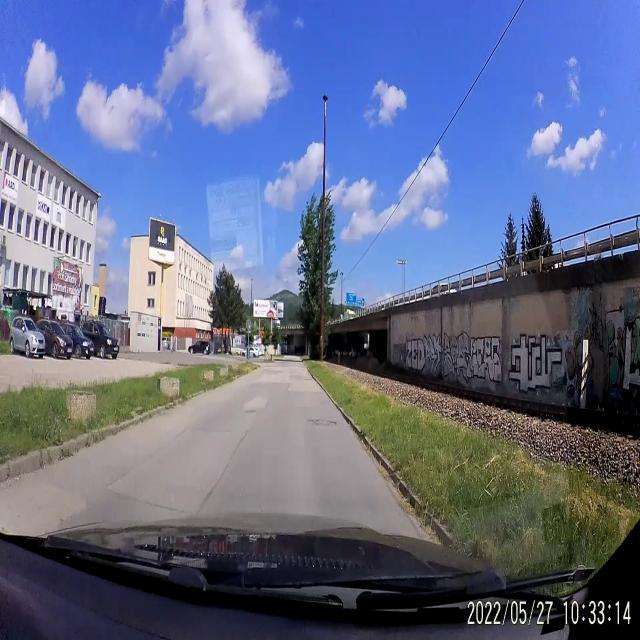Pothole: (307, 415, 338, 433), (243, 408, 262, 416)
